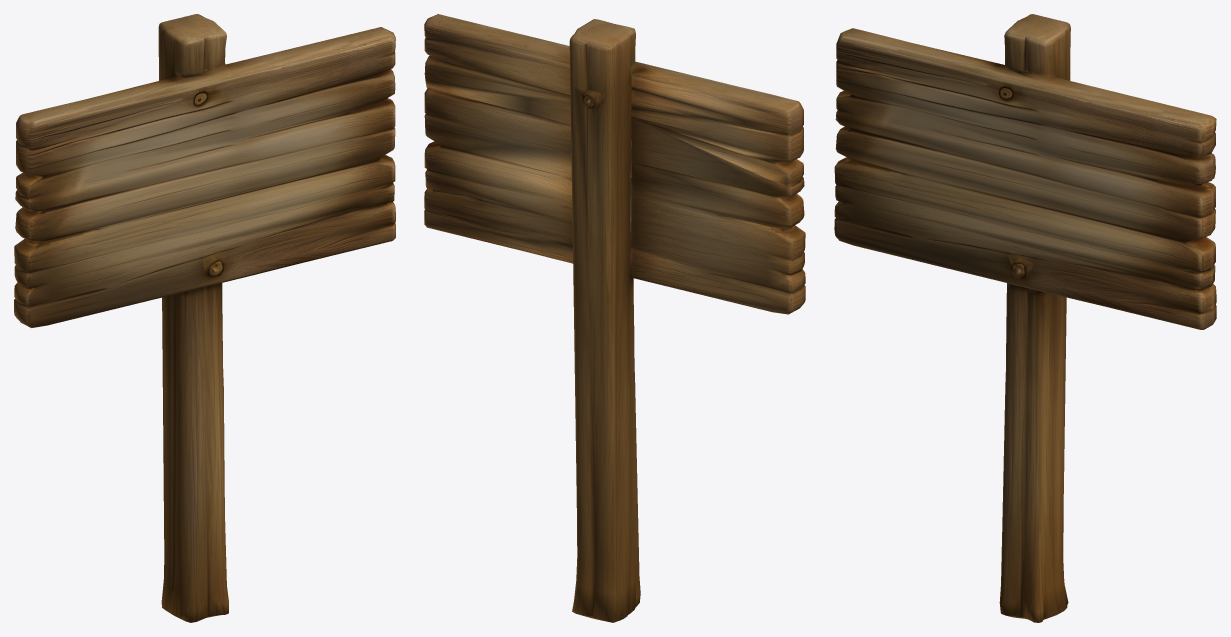
The model's file is panneau.glb.
3 renders of one model, left to right at view 1: azimuth 30°, elevation 25°; view 2: azimuth 150°, elevation 25°; view 3: azimuth 330°, elevation 25°, orthographic.
Parts seen in each view (by area): view 1: material; view 2: material; view 3: material.
Part boxes in pixels (box(x1,y1,x2,y2)): material: box(14, 14, 395, 622); material: box(424, 14, 805, 622); material: box(834, 14, 1216, 622).
Size of the model in its own units: 1.28 by 1.9 by 0.2285.
1 material, 1 textured.
